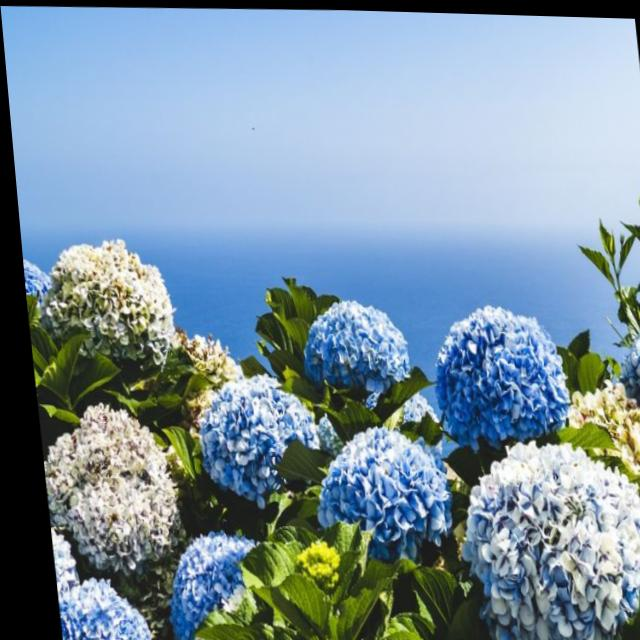Flower: (445, 431, 640, 640), (30, 395, 172, 569), (300, 412, 452, 568), (30, 224, 174, 382), (419, 290, 570, 432), (179, 372, 315, 504), (287, 286, 410, 401), (153, 525, 253, 640)
